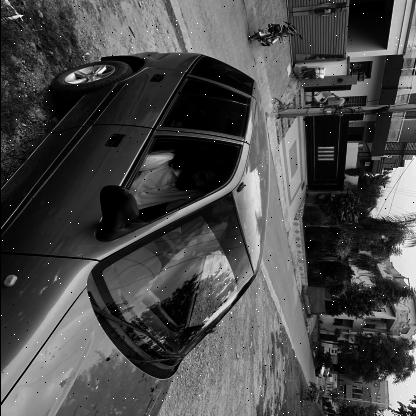no_seatbelt: (137, 151, 229, 199)
